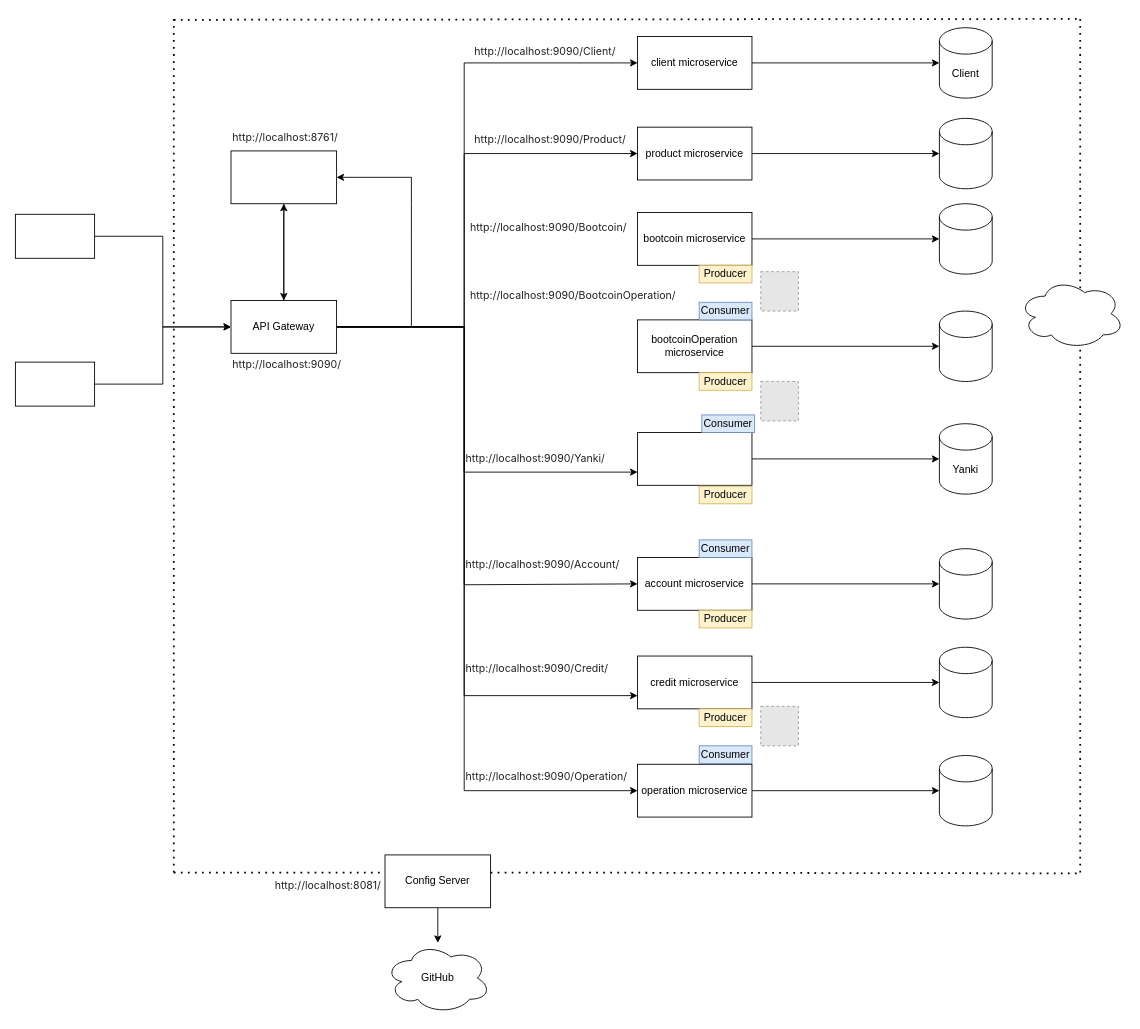
Some shapes in this 1140 by 1029 pixel diagram are drawn without their labels. Grey dashed boxes stand in for pictures. The shapes that lost their labels are listed below. From the top down, each one's box as (x1, y1, x2, y2) in pixels, then its label:
(939, 117, 992, 189): Product
(230, 150, 337, 204): Server Discovery (Eureka)
(15, 213, 95, 258): mobile
(939, 203, 992, 274): Bootcoin
(1018, 278, 1124, 349): Mongo Atlas
(939, 310, 992, 381): BootcoinO peration
(15, 361, 95, 406): web
(637, 432, 752, 485): yanki microservice
(939, 548, 992, 619): Account
(939, 646, 992, 718): Credit
(939, 755, 992, 826): Operation
